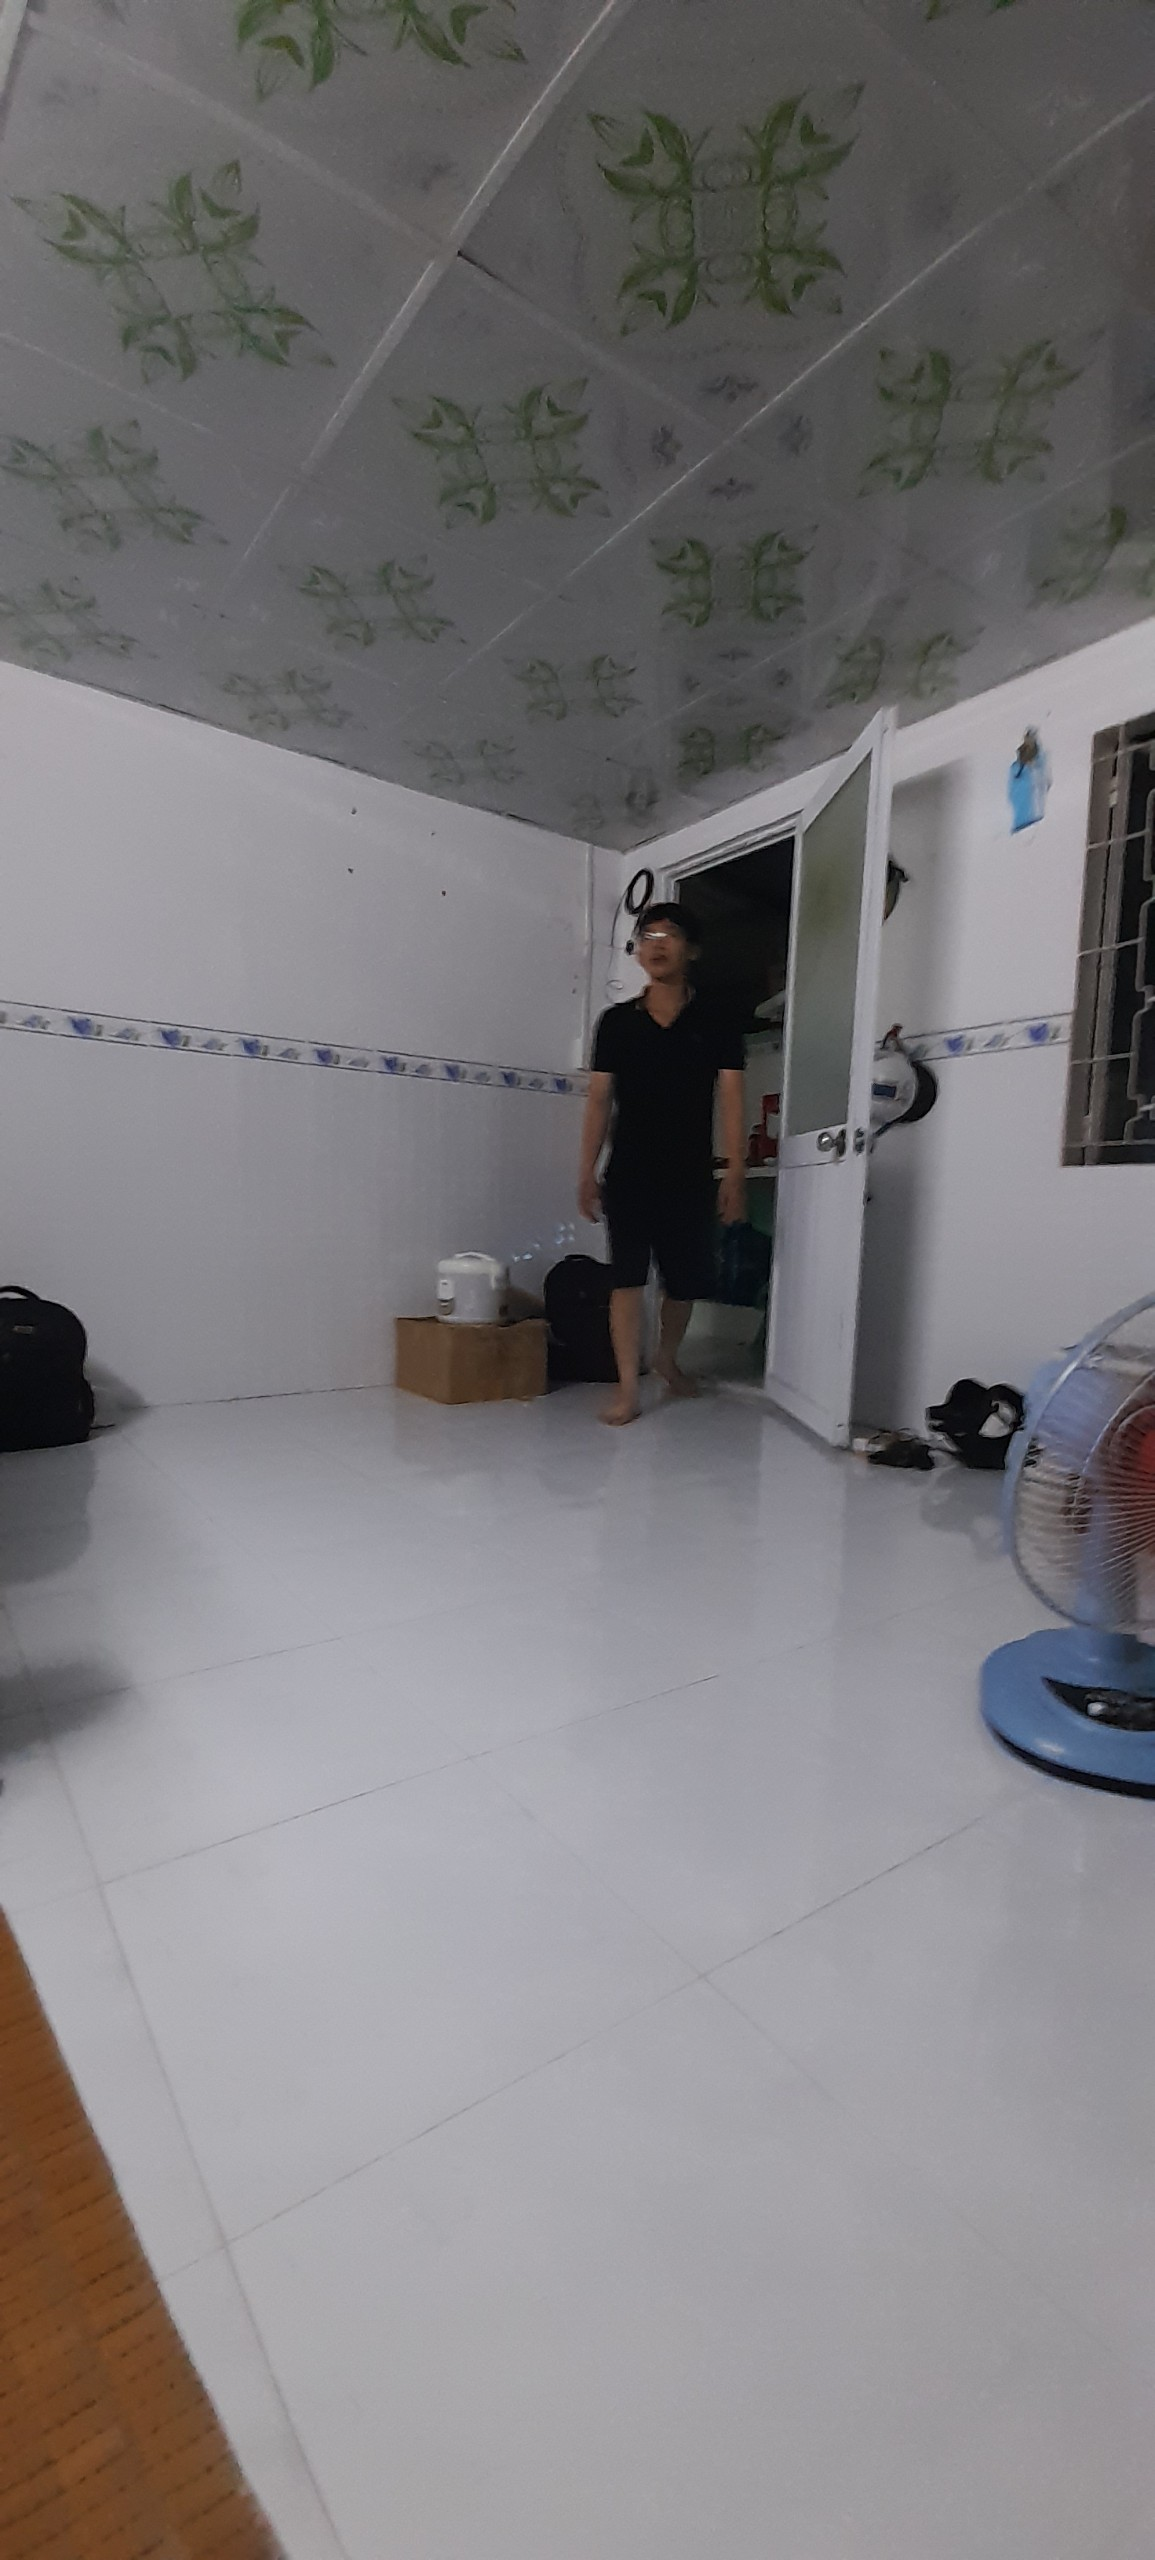person: (576, 909, 746, 1422)
